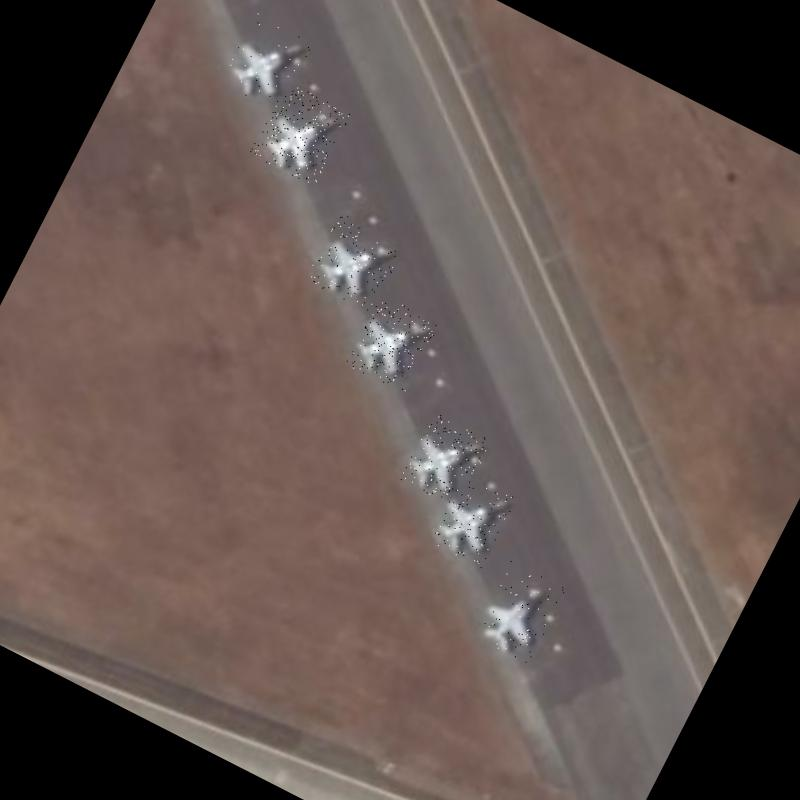A16: (249, 80, 350, 186), (470, 560, 566, 666), (304, 212, 404, 313), (218, 9, 316, 112), (344, 292, 439, 394), (399, 411, 491, 508), (429, 472, 516, 570)
